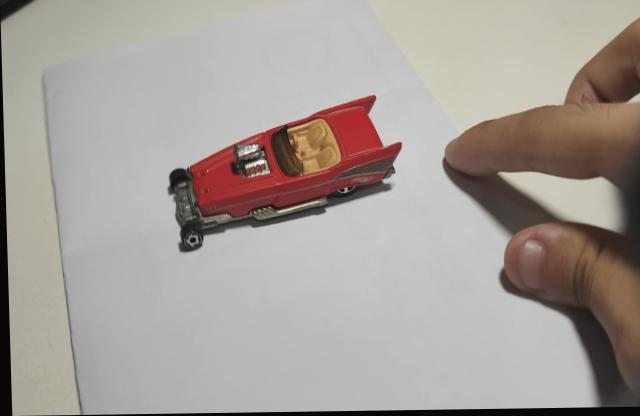03_V8: (166, 98, 403, 254)
